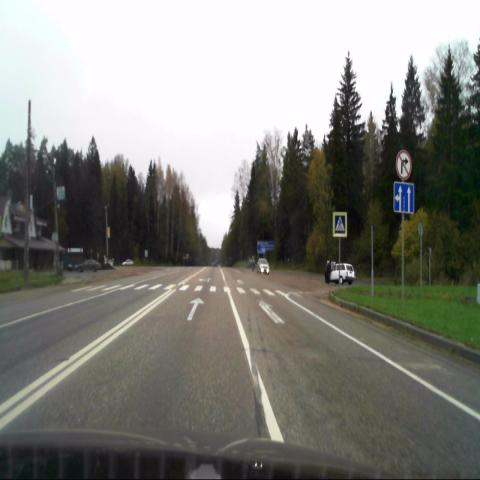3_18: (396, 150, 411, 180)
